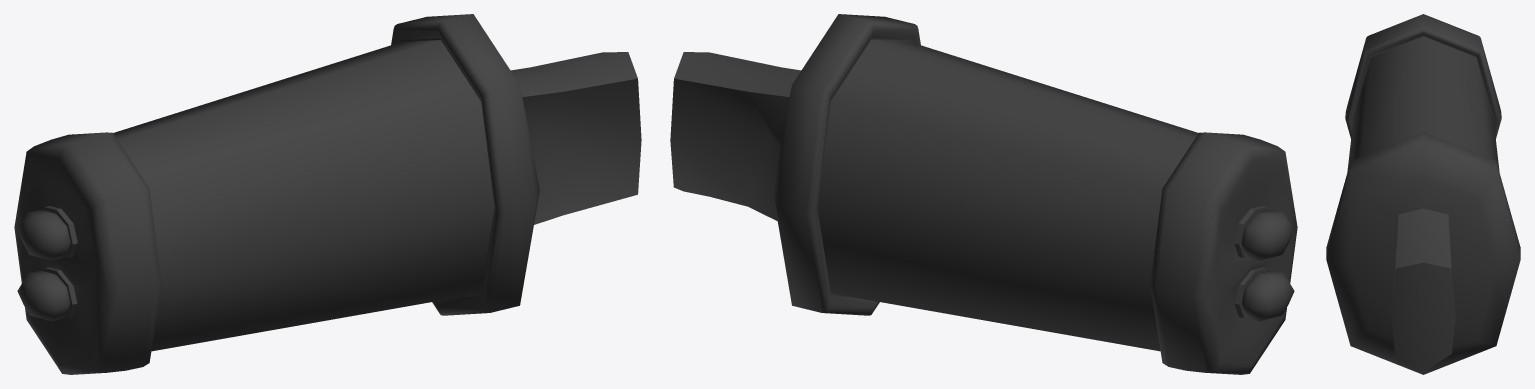
File: fuse.glb
The picture shows the model from 3 angles, left to right: view 1: azimuth 30°, elevation 25°; view 2: azimuth 150°, elevation 25°; view 3: azimuth 270°, elevation 25°; orthographic projection. The views are drawn at different scales.
Visible parts, largest first — view 1: fuse_low-obj.obj; view 2: fuse_low-obj.obj; view 3: fuse_low-obj.obj.
Part boxes in pixels (x1,y1,x2,y2): fuse_low-obj.obj: (14, 14, 641, 374); fuse_low-obj.obj: (670, 14, 1297, 374); fuse_low-obj.obj: (1326, 14, 1520, 374).
Size of the model in its own units: 0.1403 by 0.0651 by 0.0497.
1 material, 1 textured.
